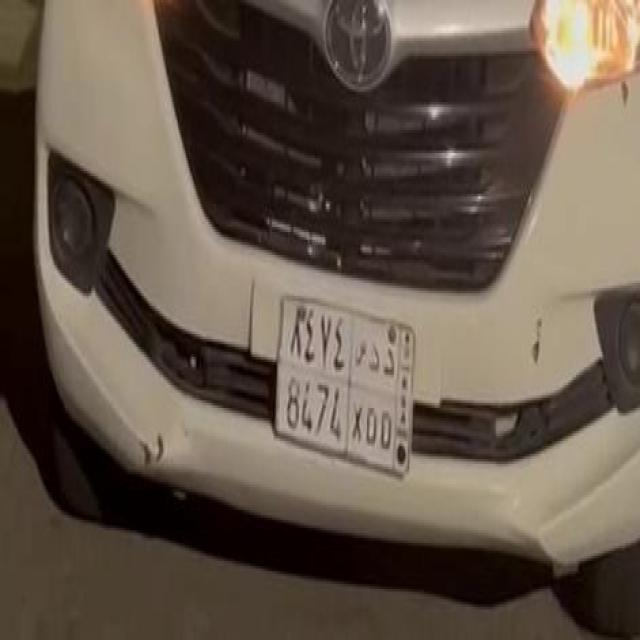Car-plate: (253, 280, 446, 516)
